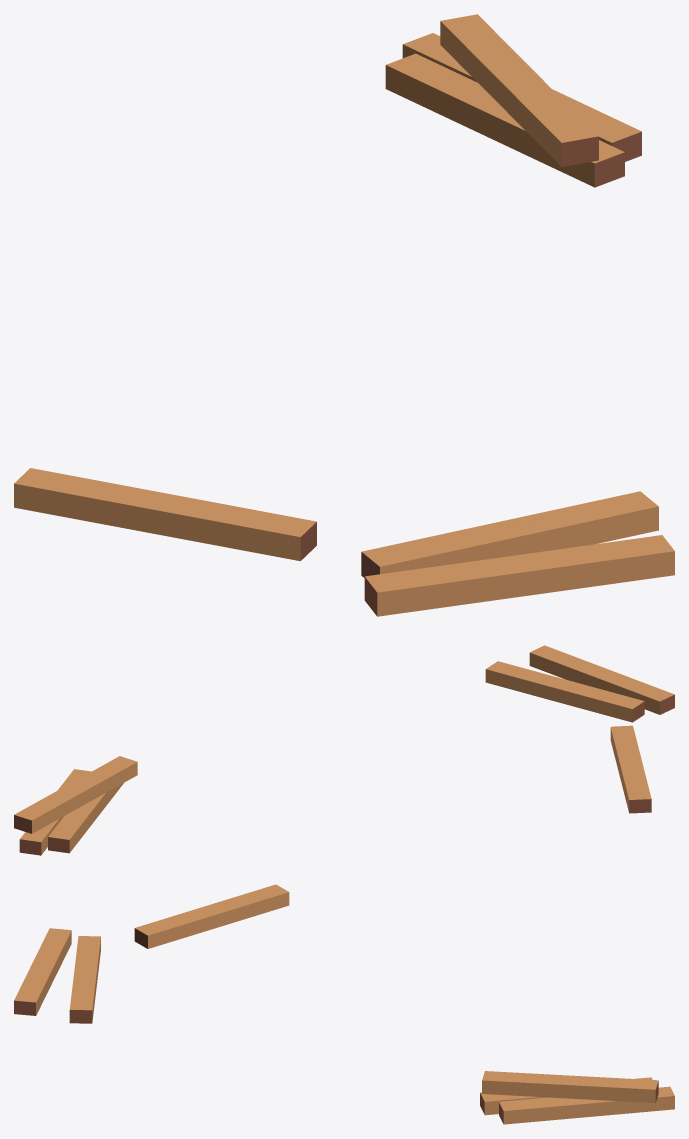
Rendered from wood2.fbx.
3 renders of one model, top to bottom at view 1: azimuth 30°, elevation 25°; view 2: azimuth 150°, elevation 25°; view 3: azimuth 270°, elevation 25°, orthographic. The views are drawn at different scales.
Visible parts, largest first — view 1: Wood2.005_cell, Wood2.004_cell, Wood2.002_cell.002, Wood2.006_cell.002, Wood2.006_cell.001, Wood2.003_cell.001, Wood2.004_cell.001, Wood2.005_cell.002, Wood2.003_cell, Wood2.004_cell.002, Wood2.002_cell.001, Wood2.003_cell.002 (+3 smaller); view 2: Wood2.005_cell, Wood2.006_cell.002, Wood2.003_cell.001, Wood2.006_cell, Wood2.002_cell.002, Wood2.003_cell, Wood2.004_cell, Wood2.004_cell.001, Wood2.001_cell, Wood2.003_cell.002, Wood2.006_cell.001, Wood2.004_cell.002 (+1 smaller); view 3: Wood2.005_cell, Wood2.003_cell.001, Wood2.004_cell, Wood2.003_cell.002, Wood2.004_cell.001, Wood2.001_cell.001, Wood2.001_cell, Wood2.006_cell.002, Wood2.001_cell.002, Wood2.006_cell, Wood2.006_cell.001, Wood2.002_cell.001.
Part boxes in pixels (left/top/right/bottom): Wood2.005_cell: left=364, top=535, right=674, bottom=603; Wood2.004_cell: left=156, top=496, right=316, bottom=561; Wood2.002_cell.002: left=385, top=53, right=505, bottom=138; Wood2.006_cell.002: left=361, top=522, right=518, bottom=577; Wood2.006_cell.001: left=507, top=501, right=658, bottom=554; Wood2.003_cell.001: left=440, top=14, right=538, bottom=105; Wood2.004_cell.001: left=28, top=468, right=180, bottom=534; Wood2.005_cell.002: left=369, top=579, right=478, bottom=616; Wood2.003_cell: left=501, top=81, right=579, bottom=166; Wood2.004_cell.002: left=14, top=470, right=102, bottom=519; Wood2.002_cell.001: left=491, top=110, right=624, bottom=187; Wood2.003_cell.002: left=510, top=76, right=598, bottom=163; Wood2.005_cell: left=529, top=645, right=663, bottom=714; Wood2.006_cell.002: left=560, top=681, right=644, bottom=722; Wood2.003_cell.001: left=14, top=785, right=84, bottom=833; Wood2.006_cell: left=485, top=664, right=563, bottom=701; Wood2.002_cell.002: left=48, top=802, right=97, bottom=853; Wood2.003_cell: left=81, top=759, right=137, bottom=804; Wood2.004_cell: left=610, top=725, right=641, bottom=774; Wood2.004_cell.001: left=619, top=761, right=645, bottom=813; Wood2.001_cell: left=19, top=816, right=63, bottom=855; Wood2.003_cell.002: left=68, top=756, right=128, bottom=789; Wood2.006_cell.001: left=494, top=661, right=571, bottom=702; Wood2.004_cell.002: left=633, top=776, right=651, bottom=812; Wood2.005_cell: left=14, top=934, right=71, bottom=1015; Wood2.003_cell.001: left=567, top=1075, right=658, bottom=1103; Wood2.004_cell: left=134, top=906, right=216, bottom=948; Wood2.003_cell.002: left=482, top=1075, right=570, bottom=1098; Wood2.004_cell.001: left=204, top=891, right=289, bottom=927; Wood2.001_cell.001: left=499, top=1097, right=591, bottom=1121; Wood2.001_cell: left=589, top=1086, right=674, bottom=1116; Wood2.006_cell.002: left=74, top=936, right=100, bottom=985; Wood2.001_cell.002: left=501, top=1106, right=547, bottom=1124; Wood2.006_cell: left=78, top=973, right=96, bottom=1023; Wood2.006_cell.001: left=69, top=972, right=88, bottom=1023; Wood2.002_cell.001: left=480, top=1095, right=547, bottom=1115.
Bounding box in the file's own units: 13.03 × 10.58 × 0.59.
